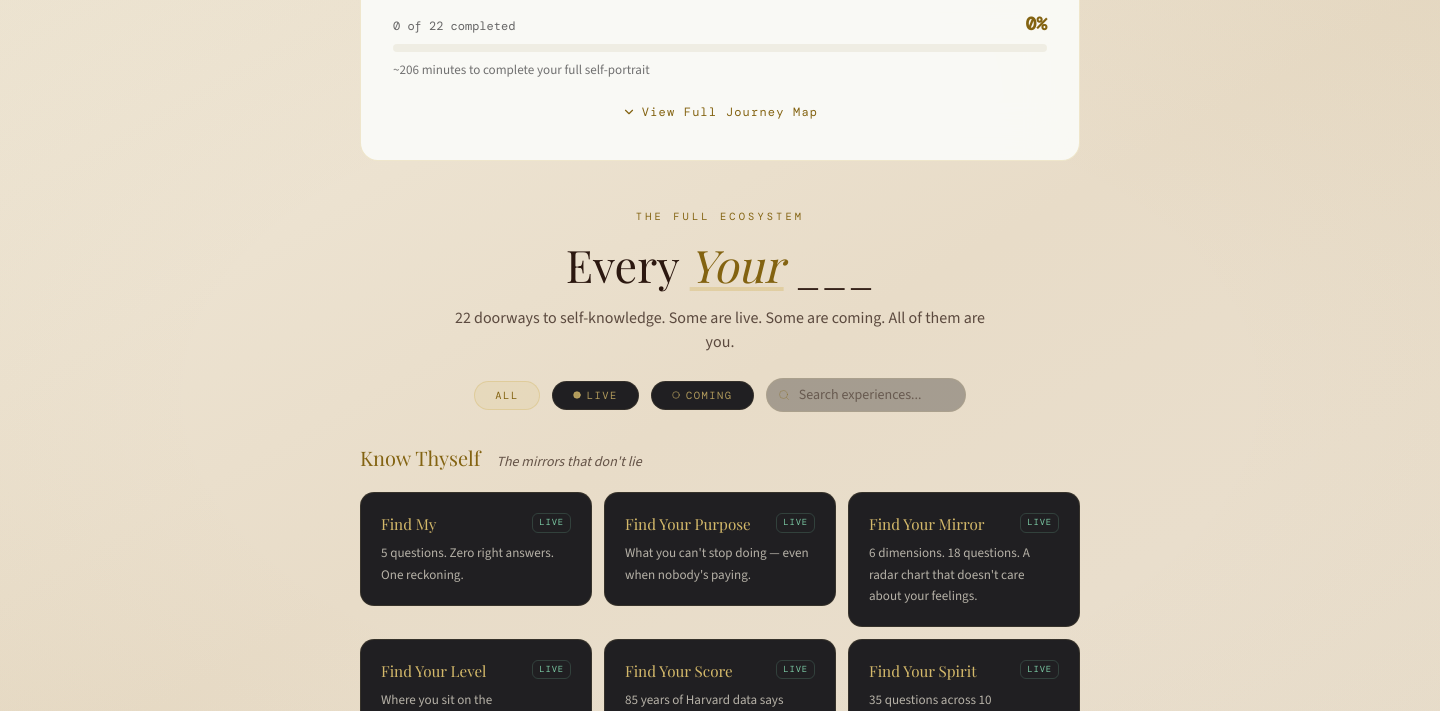
Test: FindYourMeQuiz › the landing lists the whole directory and filters it by status and search
(page scrolled)
expect the text "Find My" is shown: met, box [381, 513, 436, 536]
Click the button "Live": (595, 395) [552, 381, 639, 410]
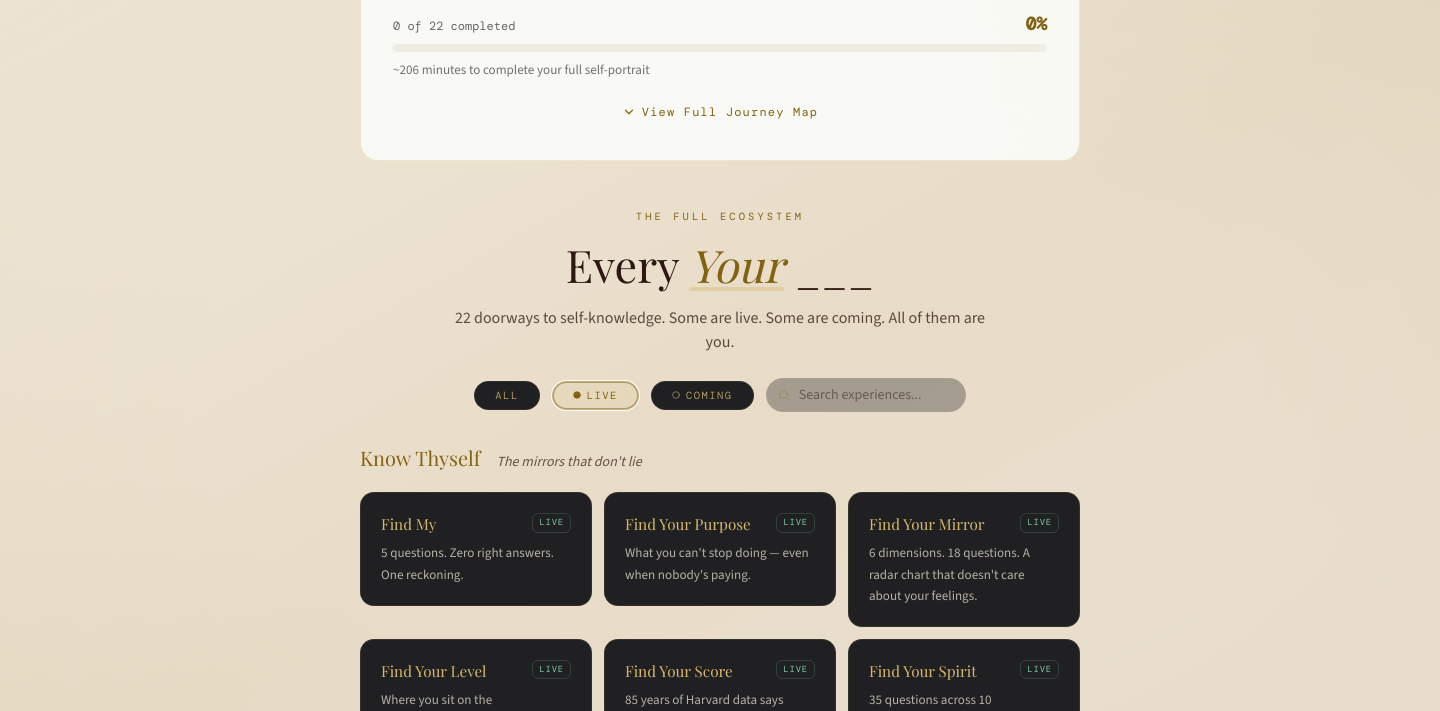
Click the button "All": (507, 395) [474, 381, 540, 410]
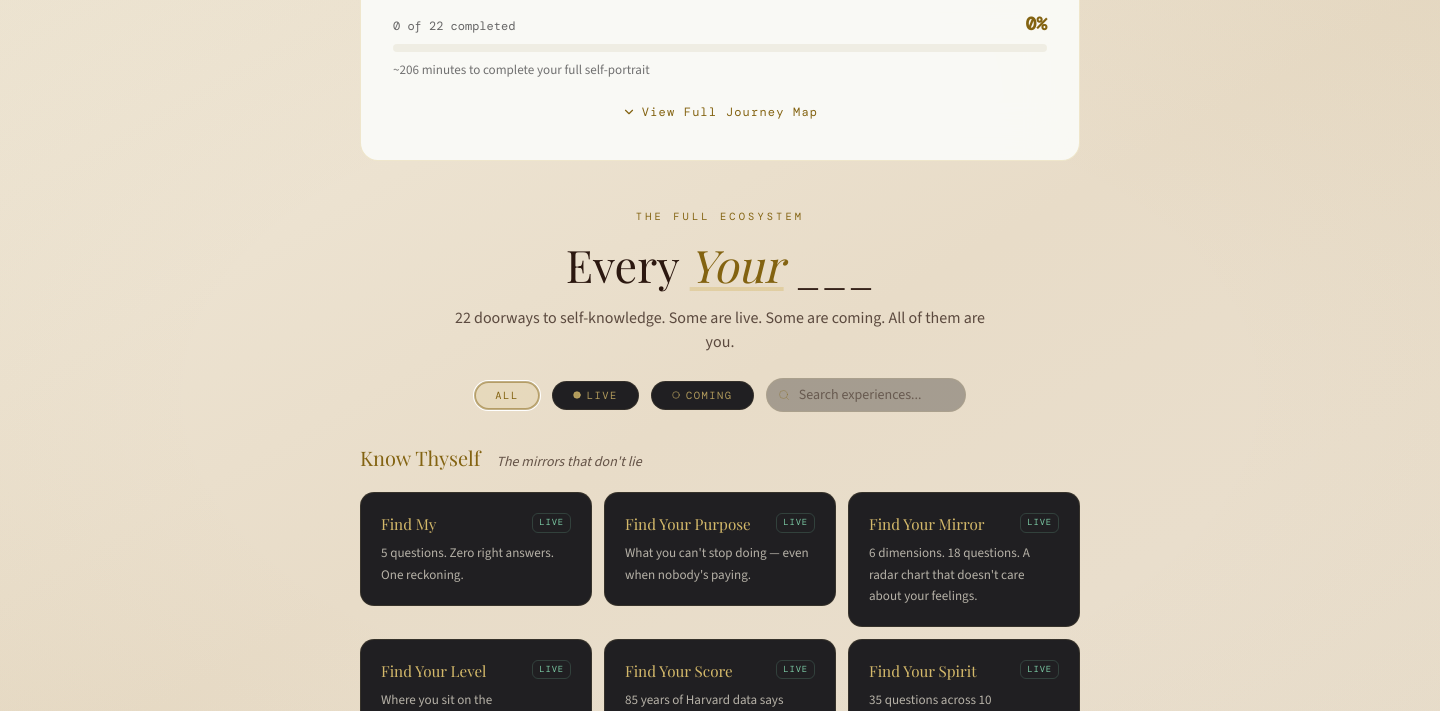
In the field with placeholder "Search experiences...": (866, 395) [766, 378, 966, 412], type "zzzz-no-match"
(page scrolled)
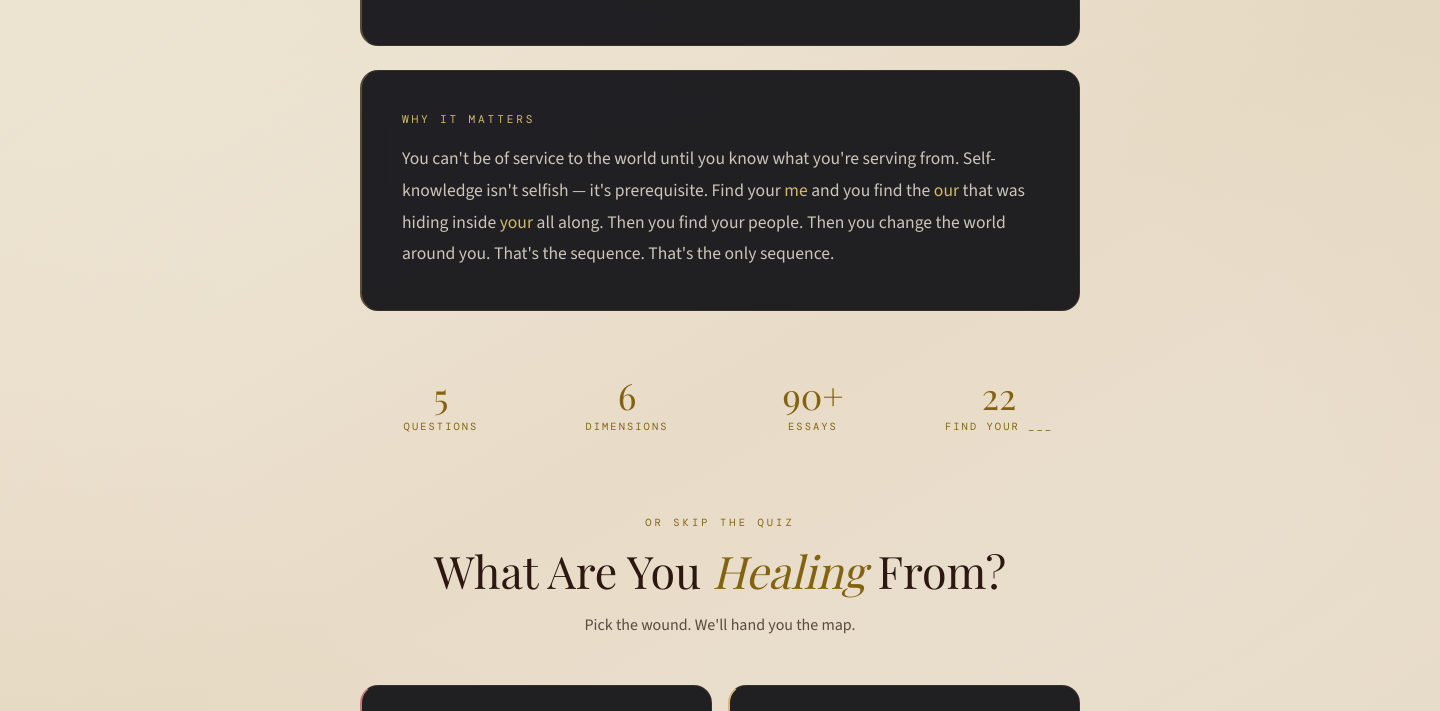
expect the link "5 questions. Zero right answers. One reckoning." is gone: met
expect the link "What you can't stop doing — even when nobody's paying." is gone: met
expect the link "6 dimensions. 18 questions. A radar chart that doesn't care about your feelings." is gone: met
